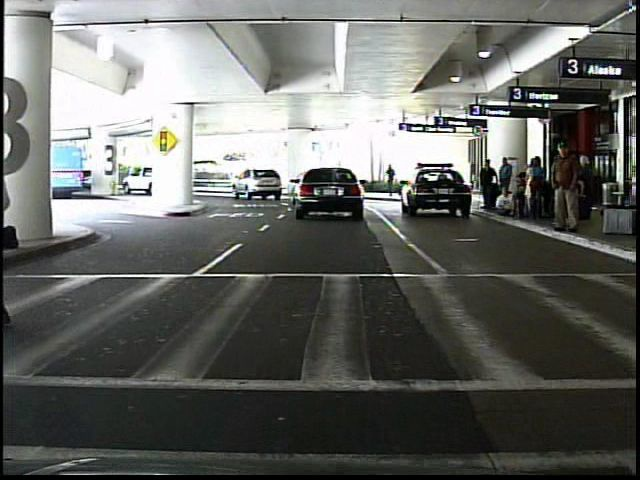person: (547, 141, 585, 238), (477, 159, 499, 215), (386, 164, 400, 200), (126, 163, 137, 188)
